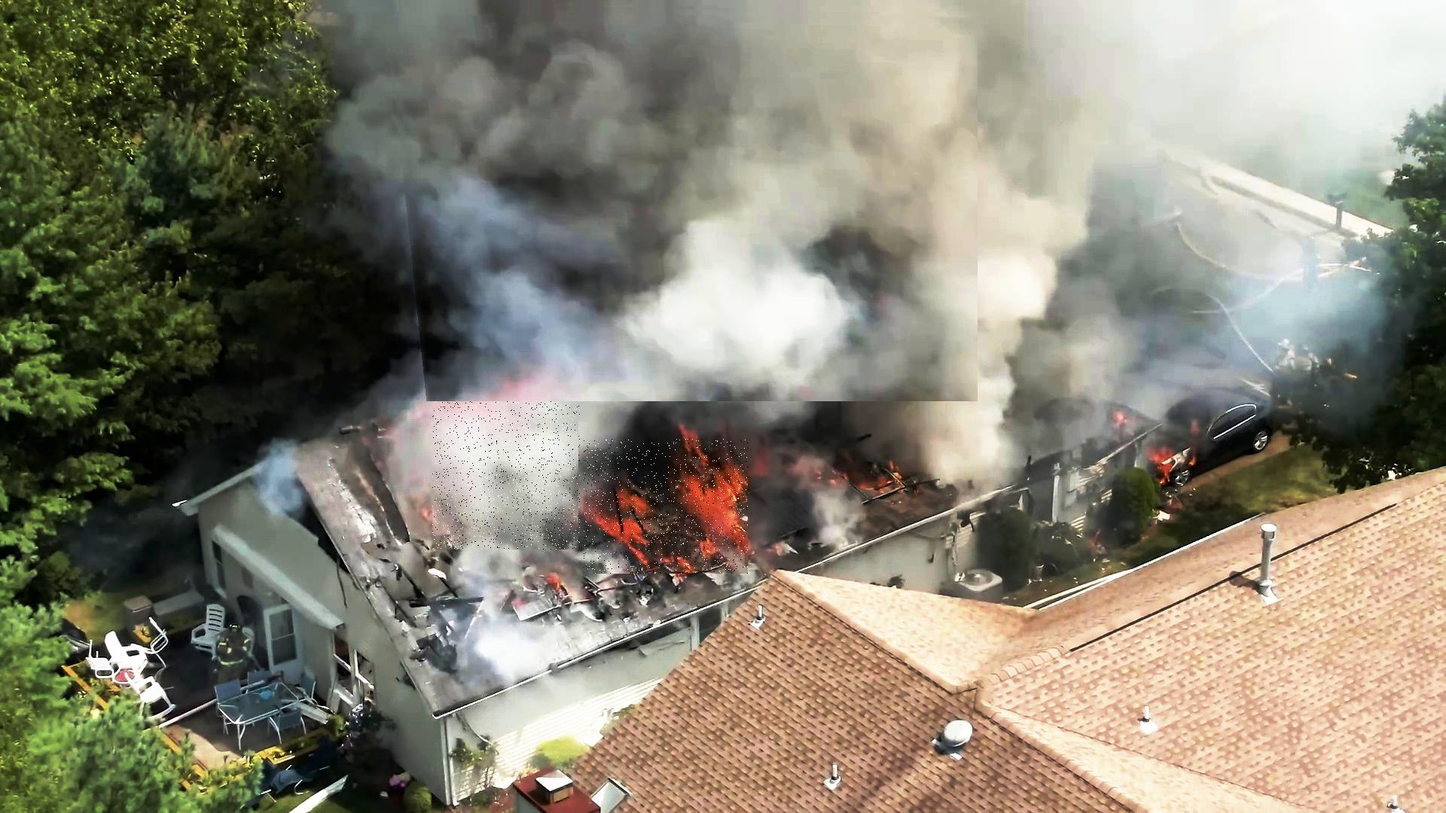fire: (584, 439, 748, 574)
smoke: (385, 0, 978, 401), (433, 380, 580, 550)
